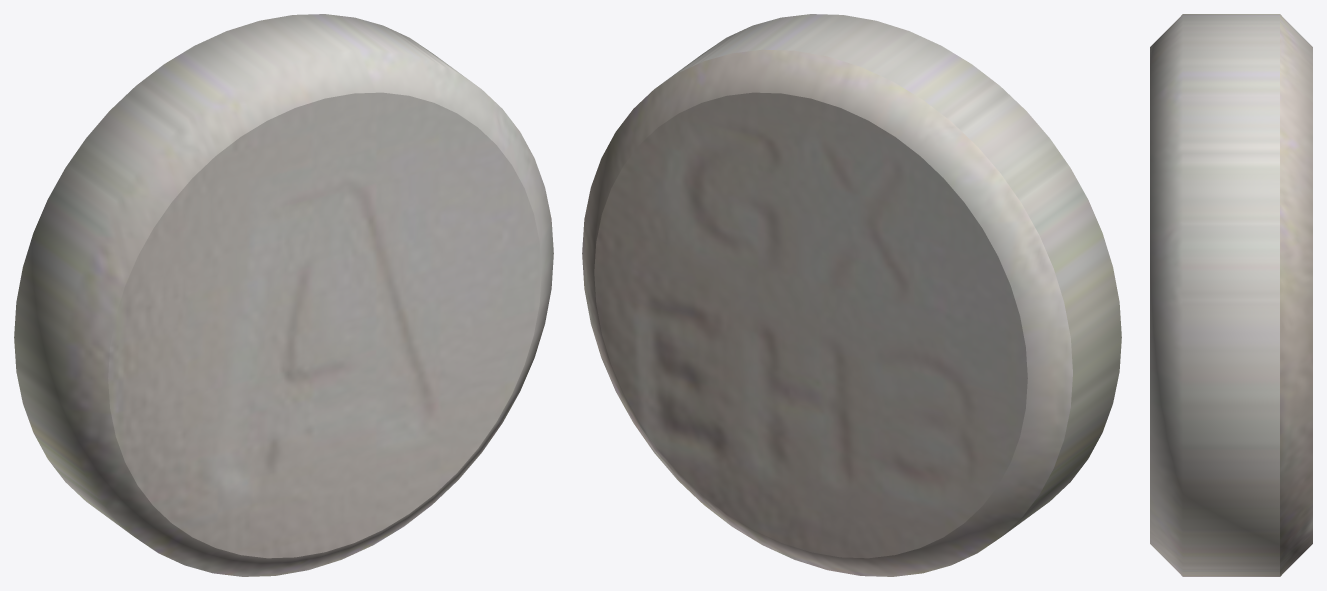
Rendered from 20140311GOPHDRGPT01691.fbx.
3 renders of one model, left to right at view 1: azimuth 30°, elevation 25°; view 2: azimuth 150°, elevation 25°; view 3: azimuth 270°, elevation 25°, orthographic.
Visible parts, largest first — view 1: BezierCircle; view 2: BezierCircle; view 3: BezierCircle.
Boxes of the visible parts, box(x1,y1,x2,y2) form: BezierCircle: box(14, 14, 553, 576); BezierCircle: box(582, 14, 1121, 576); BezierCircle: box(1150, 14, 1312, 576).
Size of the model in its own units: 0.7955 by 0.7955 by 0.2297.
1 material, 1 textured.
